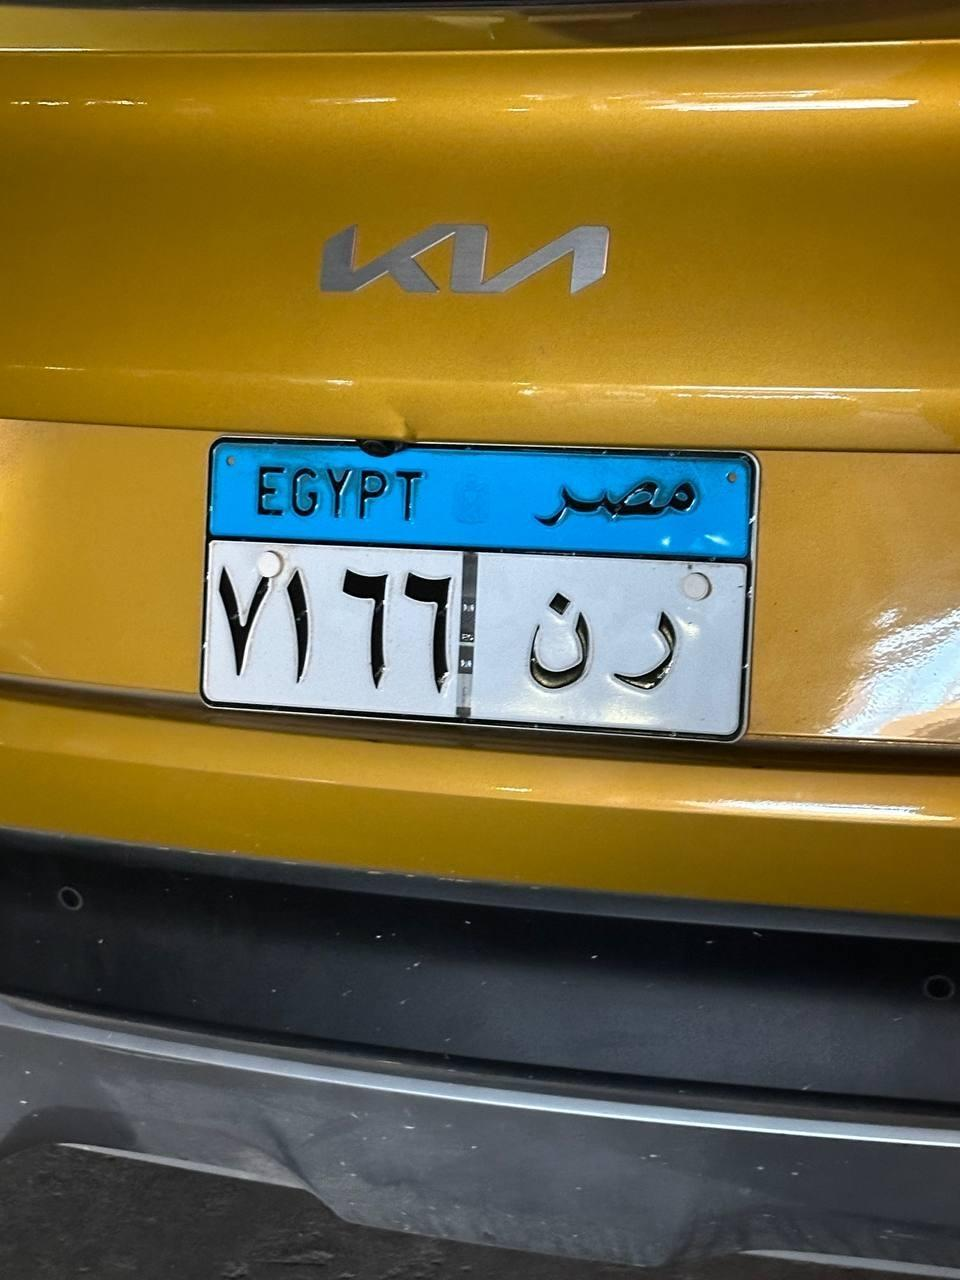6: (334, 558, 406, 690), (398, 578, 456, 690)
7: (206, 548, 274, 680), (280, 556, 324, 694)
License Plate: (191, 426, 758, 748)
Noon: (518, 576, 596, 706)
R: (613, 598, 687, 704)
